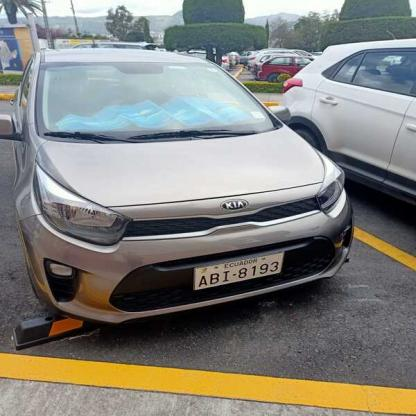Placa: (193, 250, 292, 288)
